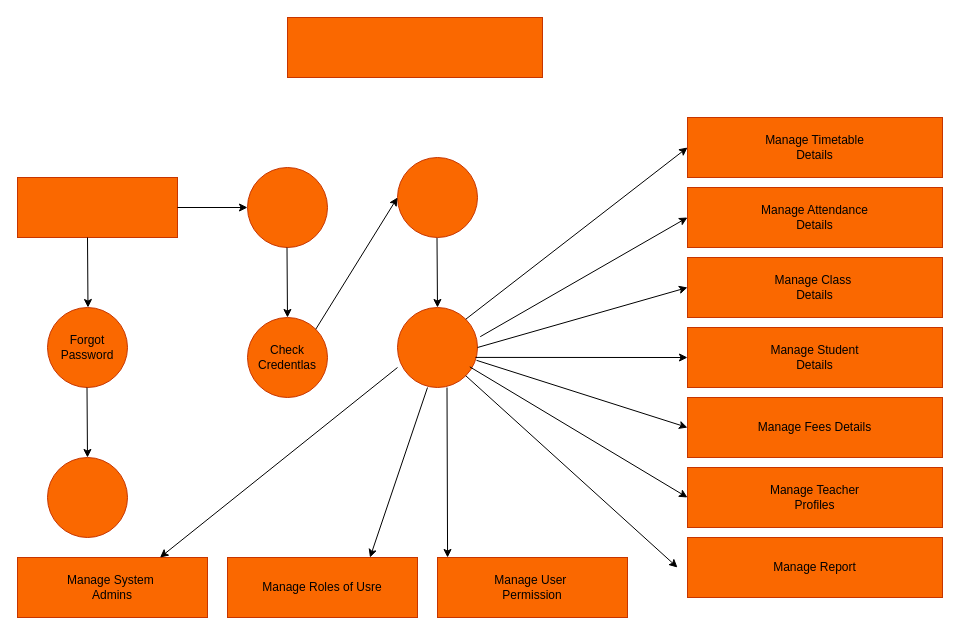
The diagram is 960 pixels wide and 635 high, and some of its shapes have lost their labels. The centre of each missing label's shape, as x and y in pixels:
"Admin" goes at (97,207).
"Check Roles of Access" goes at (437,197).
"Login to System" goes at (287,207).
"Manage Modules" goes at (437,347).
"Send Email to User" goes at (87,497).
"Student Information System" goes at (414,47).
